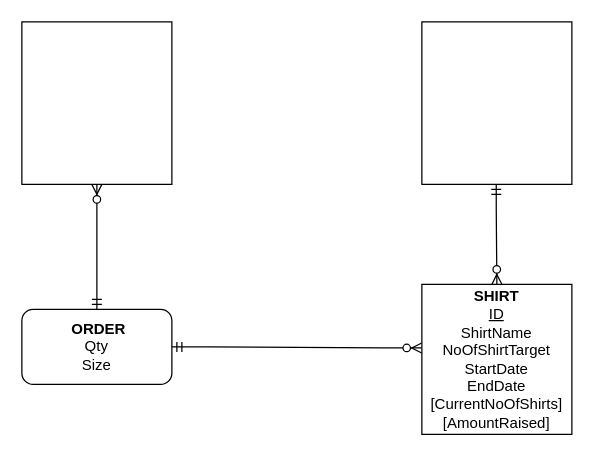
The diagram is 594 pixels wide and 456 high, and some of its shapes have lost their labels. The centre of each missing label's shape, as x and y in pixels:
BUYER Username Name (First,Last) HashedPassword PNumber Email Address: point (96, 102)
CLUB Username ClubName Email HashedPassword Address: point (496, 102)
